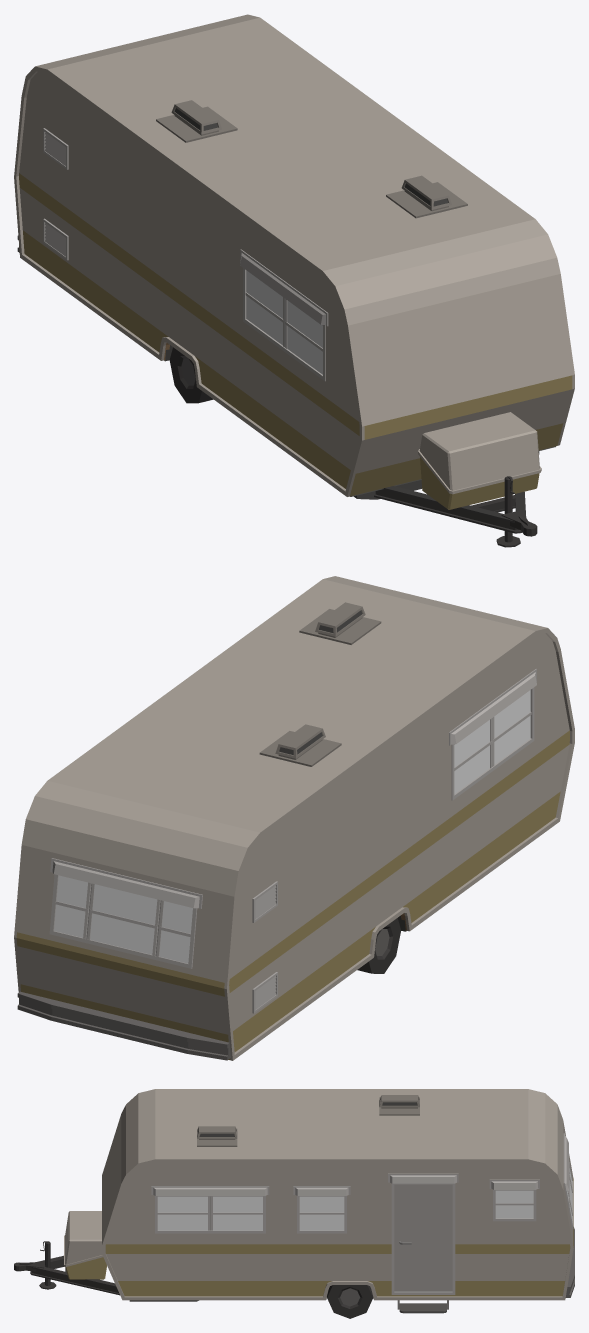
Rendered from SM_Bldg_Desert_MobileHome_04.fbx.
3 renders of one model, top to bottom at view 1: azimuth 30°, elevation 25°; view 2: azimuth 150°, elevation 25°; view 3: azimuth 270°, elevation 25°, orthographic. The views are drawn at different scales.
Parts seen in each view (by area): view 1: SM_Bldg_Desert_MobileHome_04, SM_Bldg_Desert_MobileHome_04_Glass; view 2: SM_Bldg_Desert_MobileHome_04, SM_Bldg_Desert_MobileHome_04_Glass; view 3: SM_Bldg_Desert_MobileHome_04, SM_Bldg_Desert_MobileHome_04_Door, SM_Bldg_Desert_MobileHome_04_Glass.
Part boxes in pixels (x1,y1,x2,y2): SM_Bldg_Desert_MobileHome_04: [14, 14, 574, 547]; SM_Bldg_Desert_MobileHome_04_Glass: [246, 270, 322, 374]; SM_Bldg_Desert_MobileHome_04: [14, 576, 574, 1060]; SM_Bldg_Desert_MobileHome_04_Glass: [54, 690, 530, 963]; SM_Bldg_Desert_MobileHome_04: [14, 1089, 574, 1318]; SM_Bldg_Desert_MobileHome_04_Door: [394, 1184, 452, 1291]; SM_Bldg_Desert_MobileHome_04_Glass: [157, 1168, 571, 1230].
Bounding box in the file's own units: 2.61 × 2.8 × 8.29.
